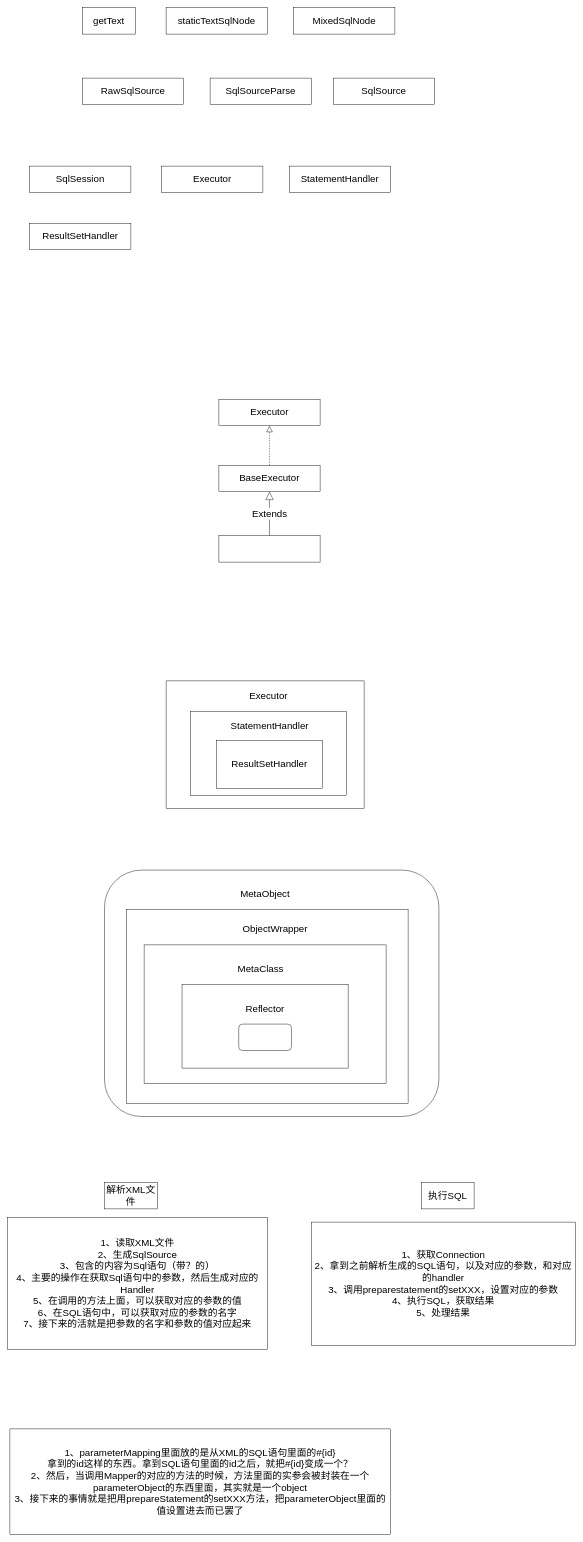
This 583x1542 diagram has some shape labels left out. Here are the shapes that lost their labels. From the top down, the centre of each, then its label:
At [269,548]: "SimpleExecutor".
At [265,1037]: "Class".
